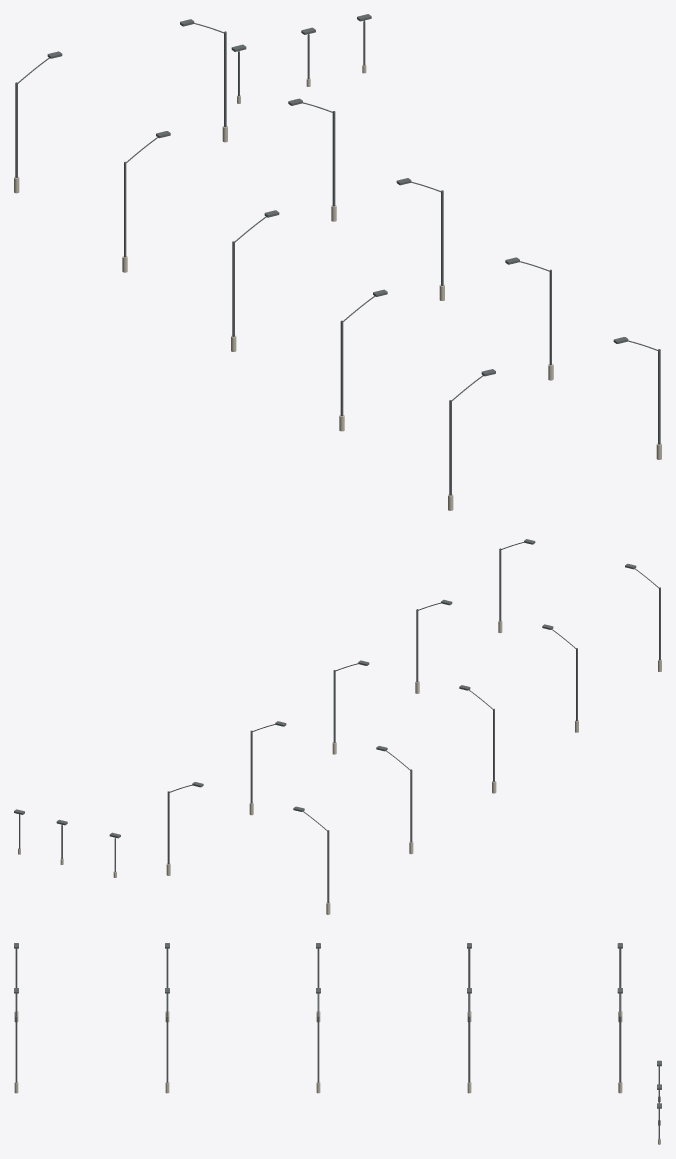
The picture shows the model from 3 angles, top to bottom: view 1: azimuth 30°, elevation 25°; view 2: azimuth 150°, elevation 25°; view 3: azimuth 270°, elevation 25°; orthographic projection. The views are drawn at different scales.
Visible parts, largest first — view 1: buildings_s_-12_-3_Dark_Metal, buildings_s_-12_-3_Warm_Limestone; view 2: buildings_s_-12_-3_Dark_Metal, buildings_s_-12_-3_Warm_Limestone; view 3: buildings_s_-12_-3_Dark_Metal, buildings_s_-12_-3_Warm_Limestone.
Boxes of the visible parts, x1,y1,x2,y2 form: buildings_s_-12_-3_Dark_Metal: (15,14,660,495); buildings_s_-12_-3_Warm_Limestone: (14,64,661,510); buildings_s_-12_-3_Dark_Metal: (14,539,660,903); buildings_s_-12_-3_Warm_Limestone: (18,620,661,914); buildings_s_-12_-3_Dark_Metal: (14,943,661,1139); buildings_s_-12_-3_Warm_Limestone: (14,1011,660,1144).
Bounding box in the file's own units: 55.19 × 17.75 × 116.
